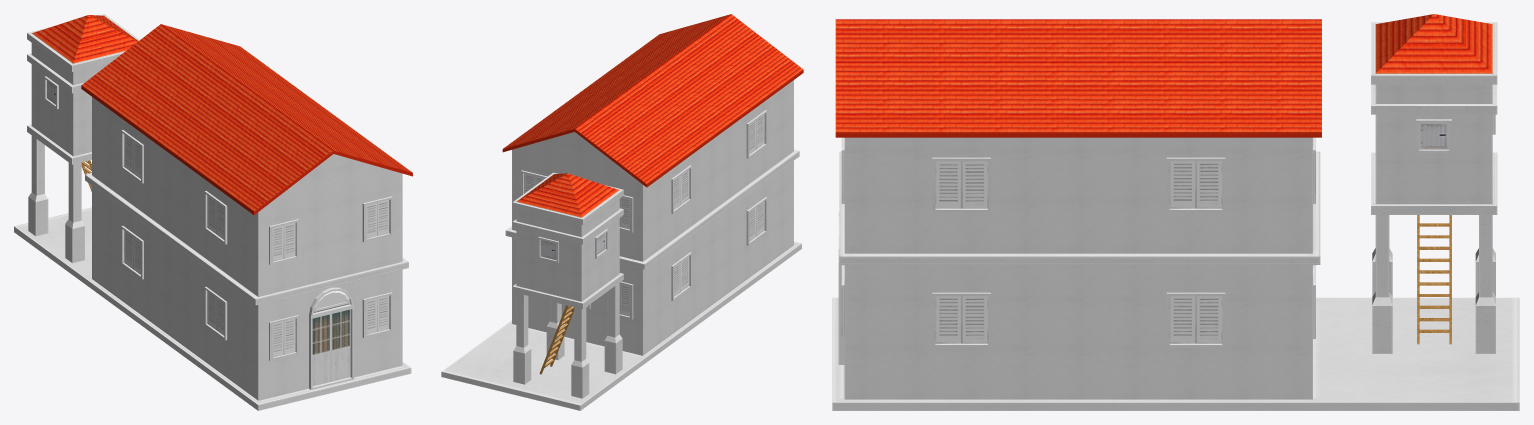
Rendered from House_3.fbx.
3 renders of one model, left to right at view 1: azimuth 30°, elevation 25°; view 2: azimuth 150°, elevation 25°; view 3: azimuth 270°, elevation 25°, orthographic. The views are drawn at different scales.
Parts seen in each view (by area): view 1: Cube; view 2: Cube; view 3: Cube.
Part boxes in pixels (x1,y1,x2,y2): Cube: [14, 14, 412, 410]; Cube: [441, 14, 803, 410]; Cube: [832, 14, 1519, 410].
Bounding box in the file's own units: 4.41 × 6.39 × 11.74.
